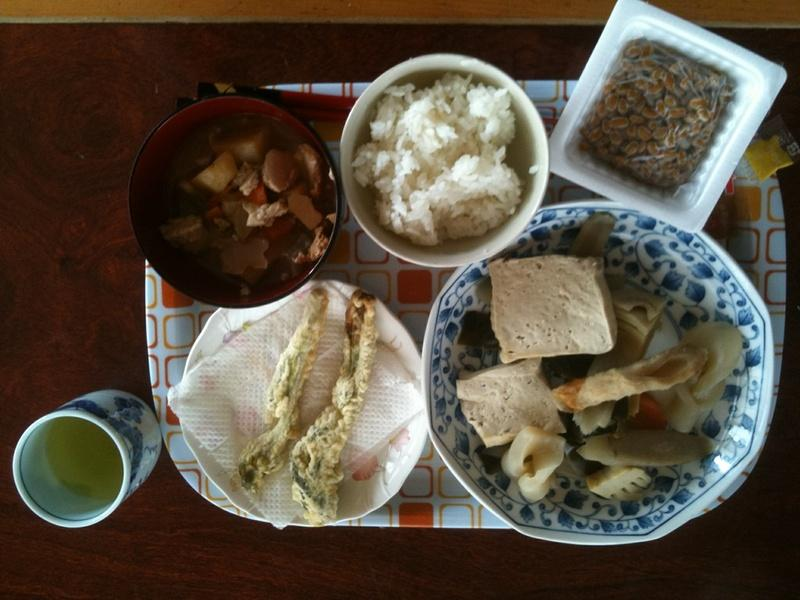rice: (351, 75, 522, 245)
